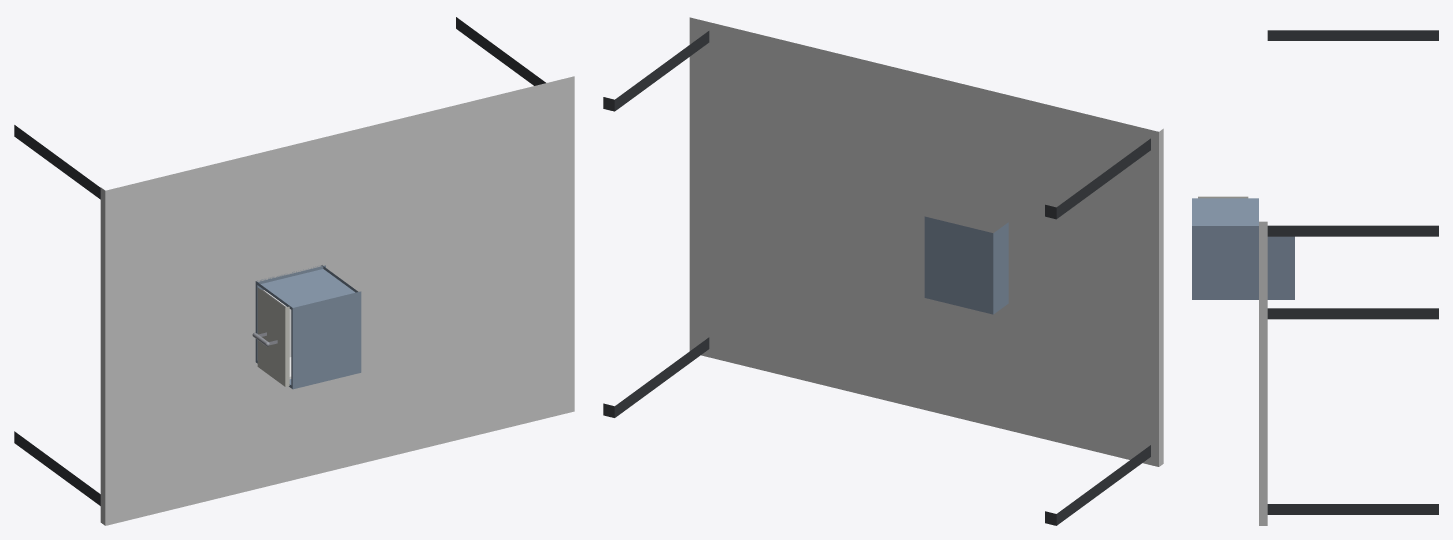
The picture shows the model from 3 angles, left to right: view 1: azimuth 30°, elevation 25°; view 2: azimuth 150°, elevation 25°; view 3: azimuth 270°, elevation 25°; orthographic projection. The views are drawn at different scales.
Parts seen in each view (by area): view 1: s0, s1, s2; view 2: s0, s1; view 3: s0, s1.
Boxes of the visible parts, x1,y1,x2,y2 form: s0: (14, 17, 574, 525); s1: (255, 265, 361, 389); s2: (252, 287, 291, 386); s0: (603, 17, 1163, 525); s1: (924, 216, 1008, 314); s0: (1259, 30, 1438, 525); s1: (1192, 198, 1294, 299).
Bounding box in the file's own units: 2.05 × 1.4 × 1.03.
